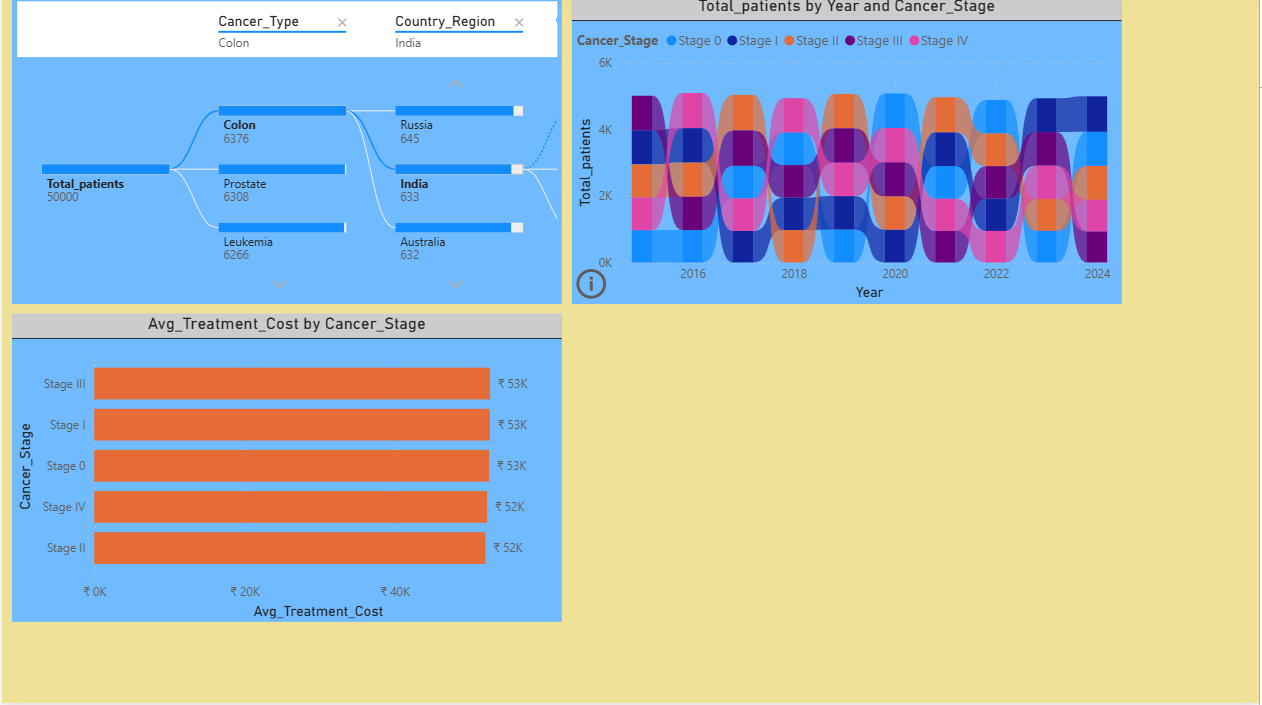

The dashboard page shown, as its layout file describes it:
{"tool":"powerbi","page":{"name":"Page 3","canvas":[1280,720],"ordinal":2},"visuals":[{"type":"decompositionTreeVisual","fields":{"Analyze":["Cancer patient Data.Total_patients"],"ExplainBy":["Cancer patient Data.Cancer_Type","Cancer patient Data.Country_Region","Cancer patient Data.Cancer_Stage"]},"box":[10.1,0,560.1,313.6],"z":0},{"type":"clusteredBarChart","fields":{"Category":["Cancer patient Data.Cancer_Stage"],"Y":["Cancer patient Data.Avg_Treatment_Cost"]},"box":[10,324,560,314],"z":1000},{"type":"ribbonChart","fields":{"Category":["Cancer patient Data.Year"],"Y":["Cancer patient Data.Total_patients"],"Series":["Cancer patient Data.Cancer_Stage"]},"box":[580,0,560,314],"z":2000},{"type":"actionButton","box":[580.2,273.3,42.6,40.3],"z":3000}]}

Visuals, with their boxes in screenshot pixels (x1, y1, x2, y2), scaled from the page's 1280x720 canvas onto the 1262x705 screenshot:
decompositionTreeVisual - Cancer patient Data.Total_patients x Cancer patient Data.Cancer_Type: crop(10, 0, 562, 307)
clusteredBarChart - Cancer patient Data.Cancer_Stage x Cancer patient Data.Avg_Treatment_Cost: crop(10, 317, 562, 625)
ribbonChart - Cancer patient Data.Year x Cancer patient Data.Total_patients: crop(572, 0, 1124, 307)
actionButton: crop(572, 268, 614, 307)
